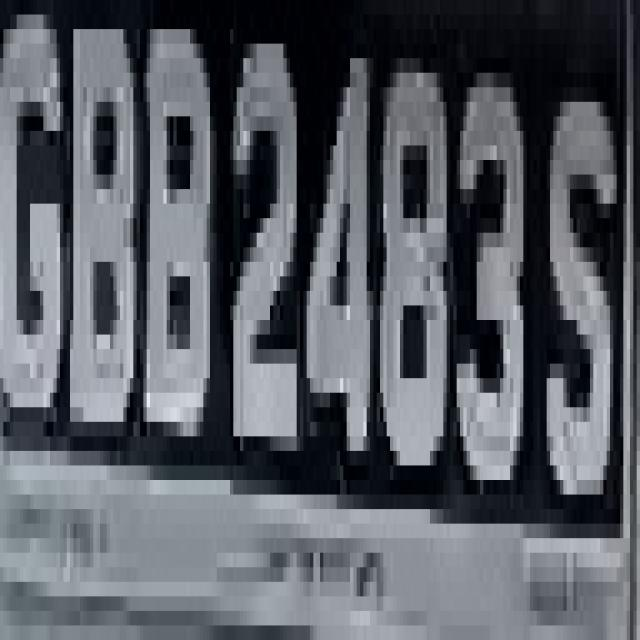2: (226, 0, 306, 480)
3: (450, 58, 533, 495)
4: (304, 15, 384, 480)
8: (384, 58, 454, 509)
B: (63, 14, 137, 466), (137, 29, 210, 451)
G: (3, 0, 67, 451)
S: (537, 58, 620, 553)
